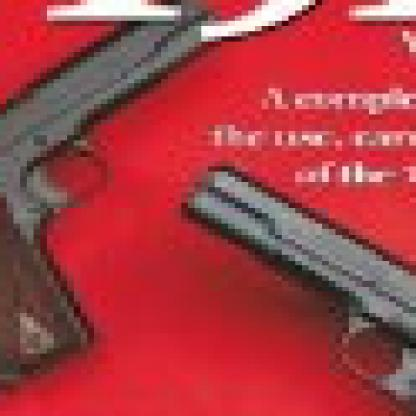gun: (0, 0, 228, 395), (161, 156, 409, 411)
